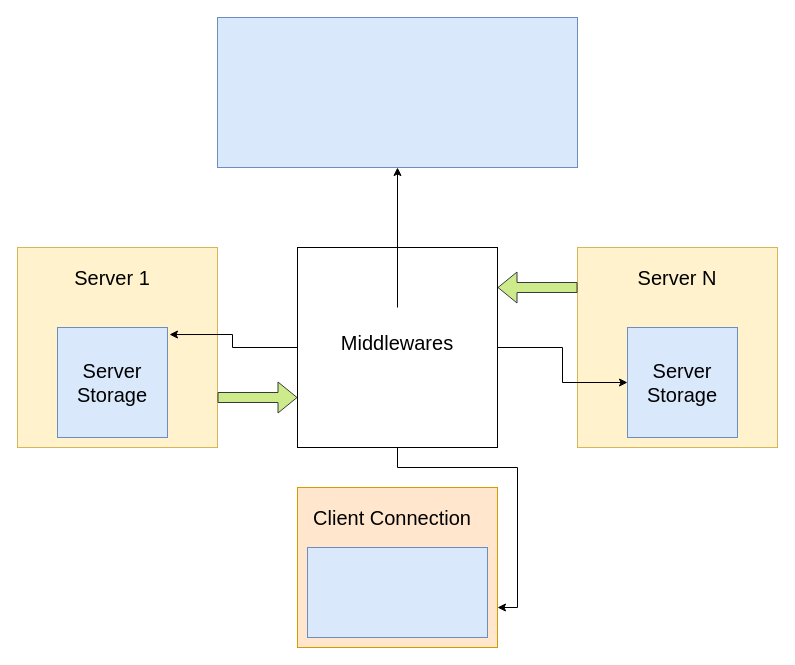
The diagram is 795 pixels wide and 665 high, and some of its shapes have lost their labels. The shapes that lost their labels are listed below. From the top down, each one's box as (x1, y1, x2, y2) in pixels, then its label:
(216, 16, 578, 168): Global Storage
(306, 546, 488, 638): Session Storage
